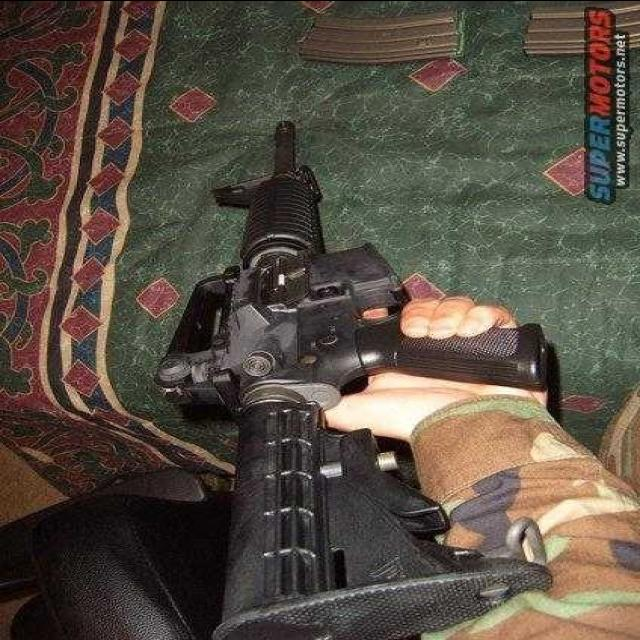heavyweapon: (119, 77, 578, 640)
